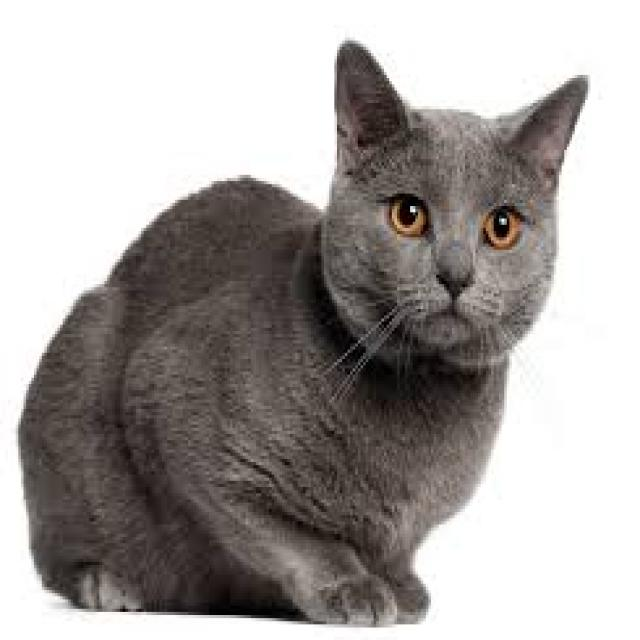Cat: (15, 35, 595, 633)
